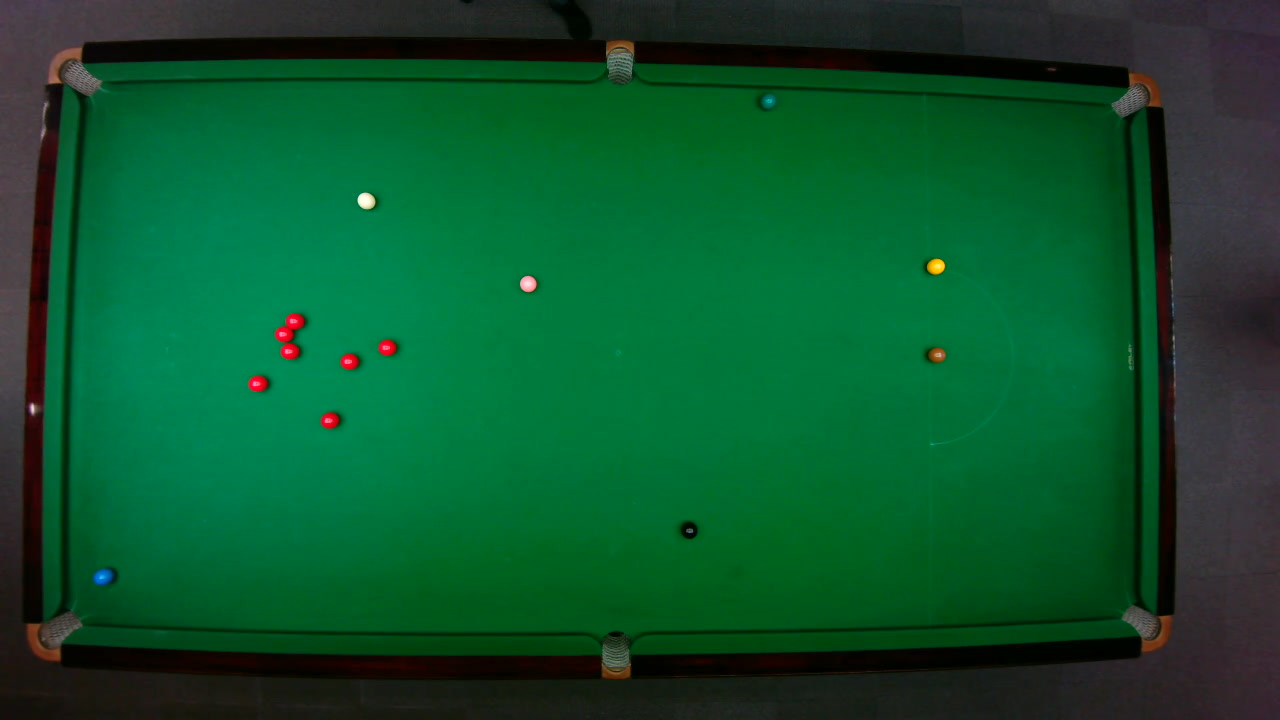bag: (24, 608, 84, 662), (45, 46, 102, 96), (1119, 603, 1172, 652), (1108, 71, 1161, 118), (600, 629, 629, 680), (605, 38, 633, 85)
black: (679, 520, 697, 539)
blue: (91, 566, 114, 585)
brown: (926, 346, 946, 362)
green: (759, 93, 776, 109)
pink: (517, 274, 537, 292)
red: (318, 410, 340, 429), (284, 311, 305, 330), (246, 374, 268, 392), (273, 324, 294, 342), (376, 338, 397, 356), (278, 342, 300, 359), (338, 352, 359, 369)
white: (355, 190, 376, 209)
yellow: (925, 257, 945, 274)
zone: (926, 267, 1013, 445)
